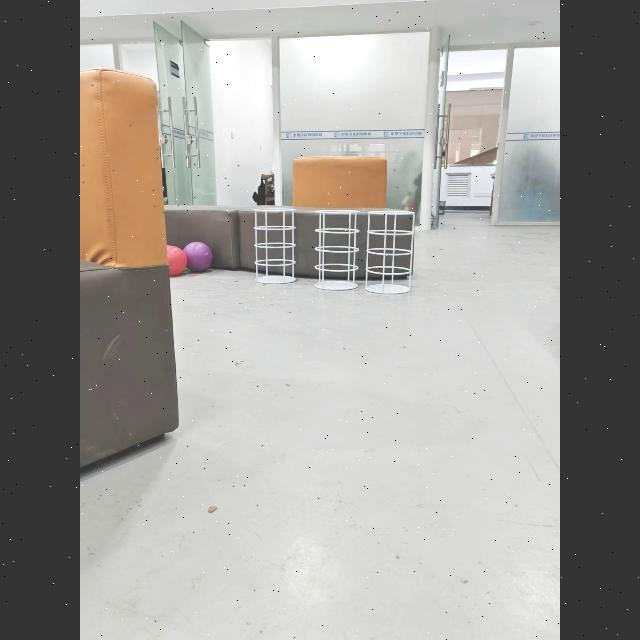P: (183, 241, 213, 273)
R: (167, 245, 187, 276)
S: (368, 212, 414, 296), (315, 210, 359, 291), (256, 210, 296, 286)
